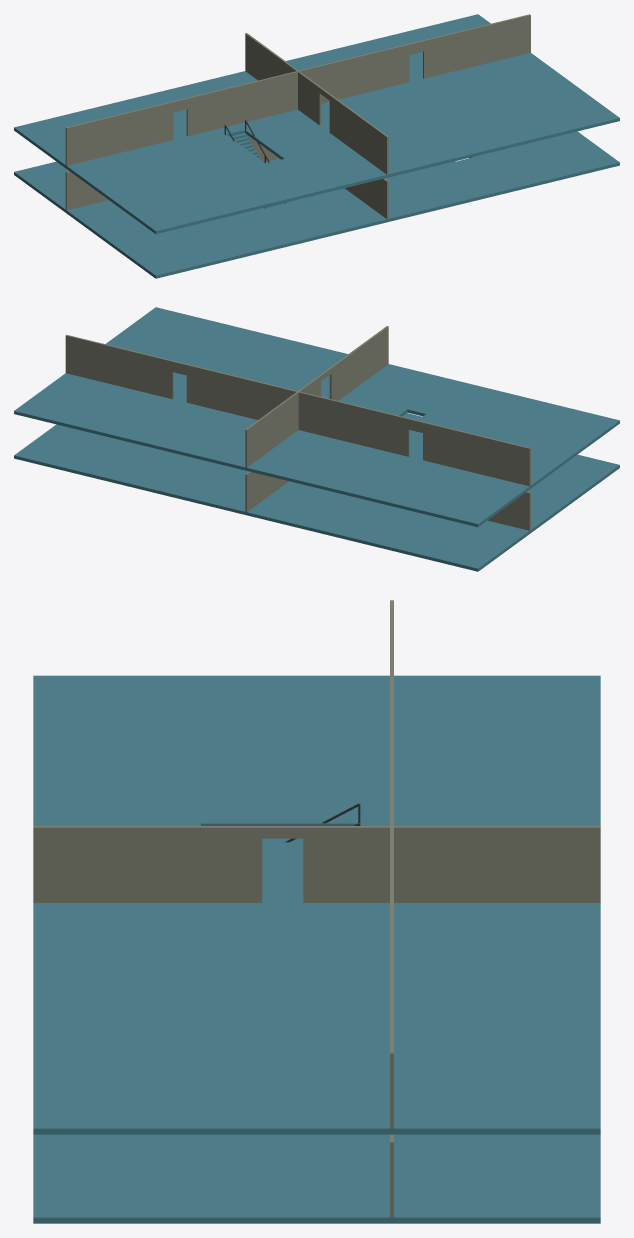
File: HAR-002_HARROW_INTERIOR_PLAYABLE_BLOCKOUT.fbx
3 views of the same model, one above another, from view 1: azimuth 30°, elevation 25°; view 2: azimuth 150°, elevation 25°; view 3: azimuth 270°, elevation 25° (orthographic). The views are drawn at different scales.
Parts seen in each view (by area): view 1: HAR002_GroundAndUpperWalkableFloors, HAR002_PlayableDoorwayPartitions, HI_GRAND_STAIR_ASSEMBLED; view 2: HAR002_GroundAndUpperWalkableFloors, HAR002_PlayableDoorwayPartitions; view 3: HAR002_GroundAndUpperWalkableFloors, HAR002_PlayableDoorwayPartitions.
Part boxes in pixels (bbox=[...]): HAR002_GroundAndUpperWalkableFloors: bbox=[14, 14, 619, 278]; HAR002_PlayableDoorwayPartitions: bbox=[65, 14, 530, 219]; HI_GRAND_STAIR_ASSEMBLED: bbox=[224, 120, 285, 208]; HAR002_GroundAndUpperWalkableFloors: bbox=[14, 307, 619, 571]; HAR002_PlayableDoorwayPartitions: bbox=[65, 326, 530, 530]; HAR002_GroundAndUpperWalkableFloors: bbox=[33, 675, 600, 1223]; HAR002_PlayableDoorwayPartitions: bbox=[33, 600, 600, 1217].
Bounding box in the file's own units: 39.3 × 6.9 × 20.8.
